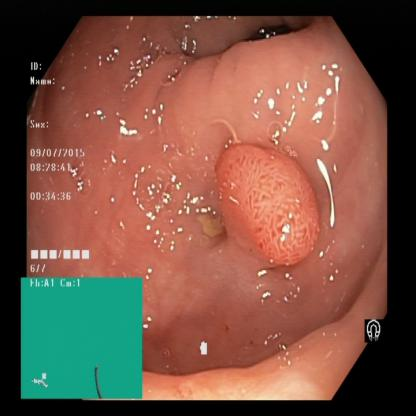Labels: (24, 63, 96, 275), (22, 278, 143, 399), (361, 312, 384, 347)
Polyps: (214, 133, 330, 279)
